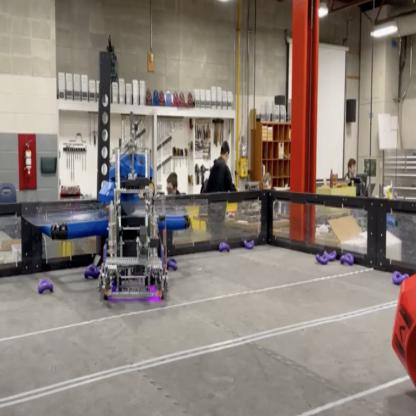ring: (392, 270, 409, 284), (38, 278, 53, 293), (340, 252, 354, 265), (84, 264, 97, 278), (218, 241, 230, 252), (316, 253, 327, 264), (324, 250, 336, 260), (167, 258, 177, 270), (243, 239, 254, 249)
